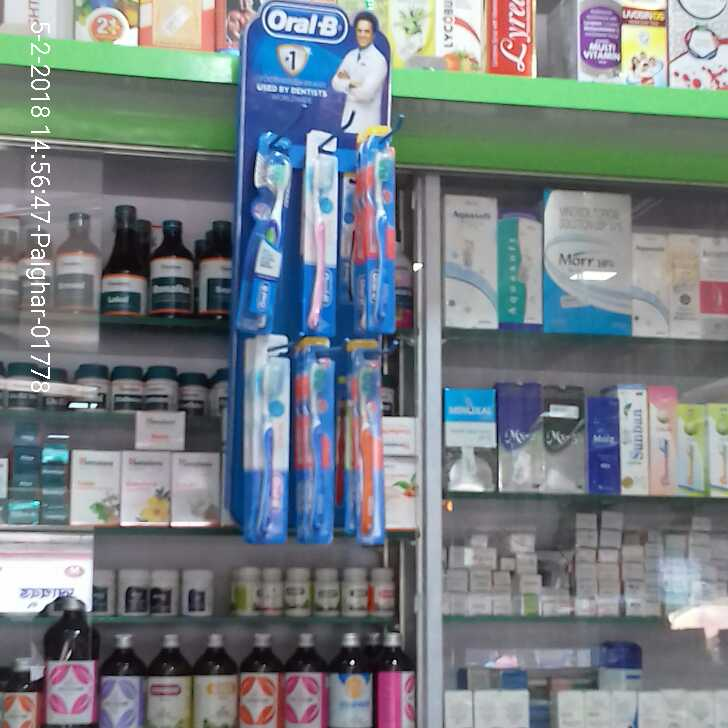oralb: (234, 126, 292, 336), (246, 363, 292, 539), (344, 350, 384, 538), (358, 151, 393, 326), (303, 158, 338, 326), (291, 361, 322, 538)
